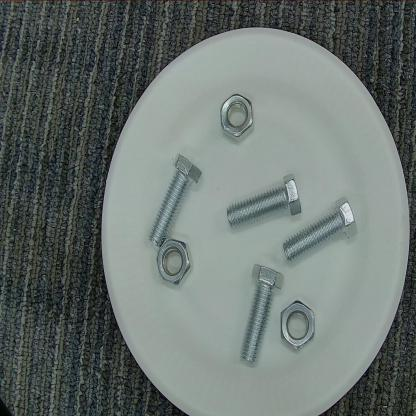FOD: (148, 152, 205, 250), (284, 195, 358, 264), (222, 170, 308, 228), (238, 265, 283, 365), (212, 87, 260, 142), (275, 294, 318, 353), (155, 232, 195, 290)
